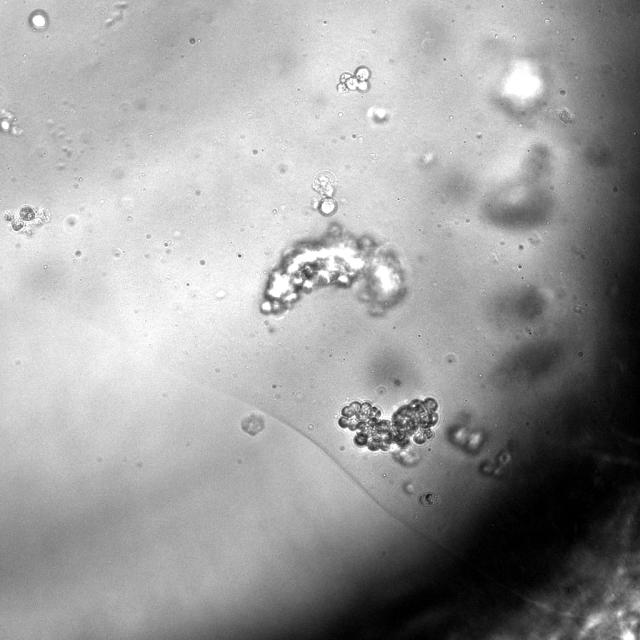organoid: (260, 224, 407, 315), (338, 398, 439, 452), (446, 413, 486, 455), (2, 204, 49, 235), (312, 170, 337, 215), (336, 65, 371, 93), (481, 448, 512, 477), (241, 413, 264, 435), (418, 492, 439, 506)
